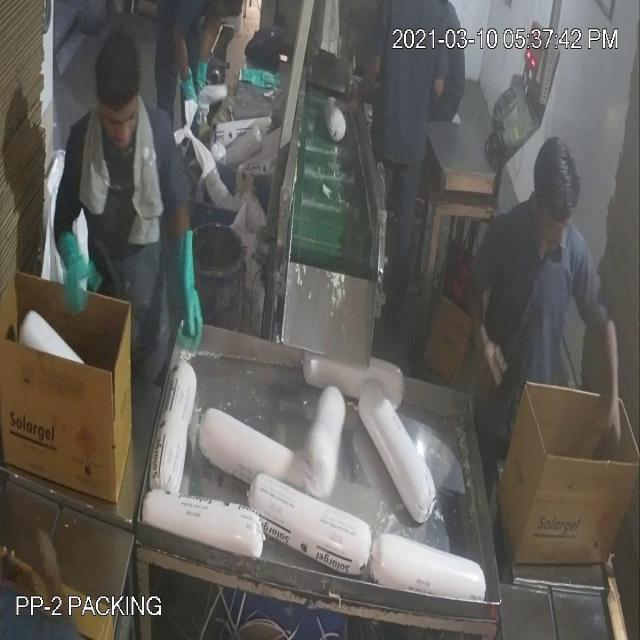No_Gloves: (40, 142, 608, 378)
